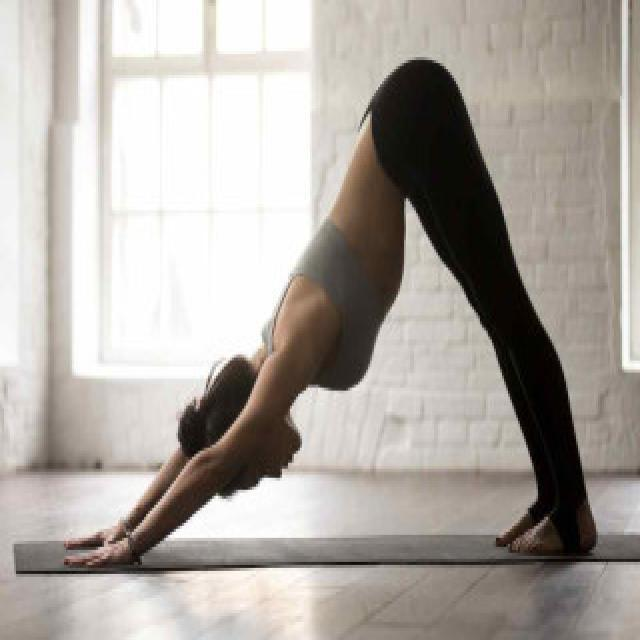yoga-pose downward: (73, 61, 598, 576)
